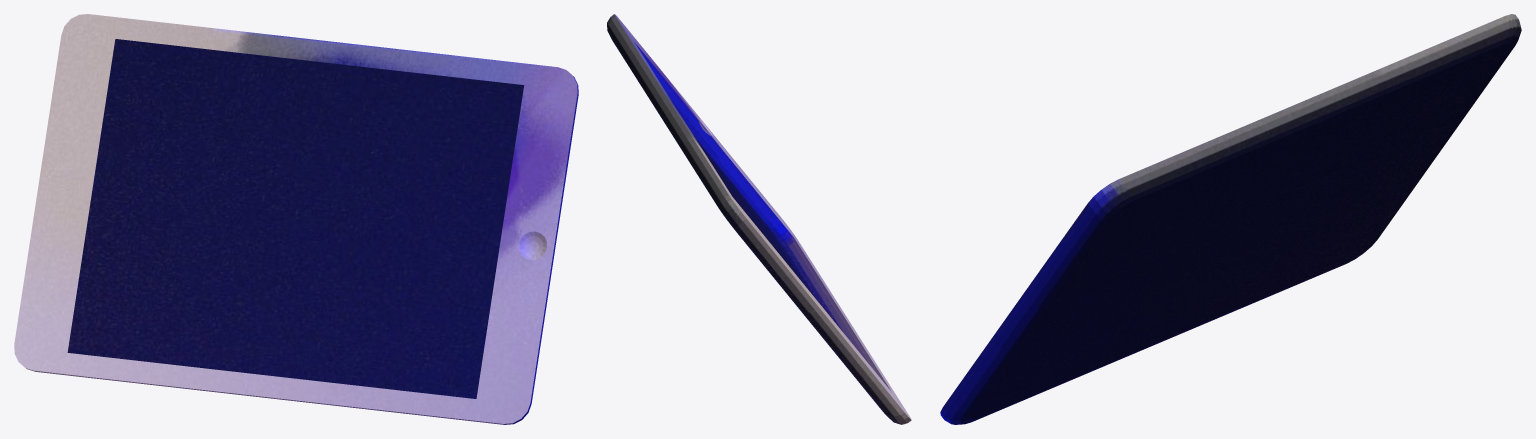
File: ipad.glb
The picture shows the model from 3 angles, left to right: view 1: azimuth 30°, elevation 25°; view 2: azimuth 150°, elevation 25°; view 3: azimuth 270°, elevation 25°; orthographic projection. The views are drawn at different scales.
Parts seen in each view (by area): view 1: ipad; view 2: ipad; view 3: ipad.
Boxes of the visible parts, x1,y1,x2,y2 form: ipad: [14, 14, 578, 424]; ipad: [607, 14, 911, 424]; ipad: [940, 14, 1521, 424].
Size of the model in its own units: 5.36 by 3.16 by 5.36.
1 material, 1 textured.
